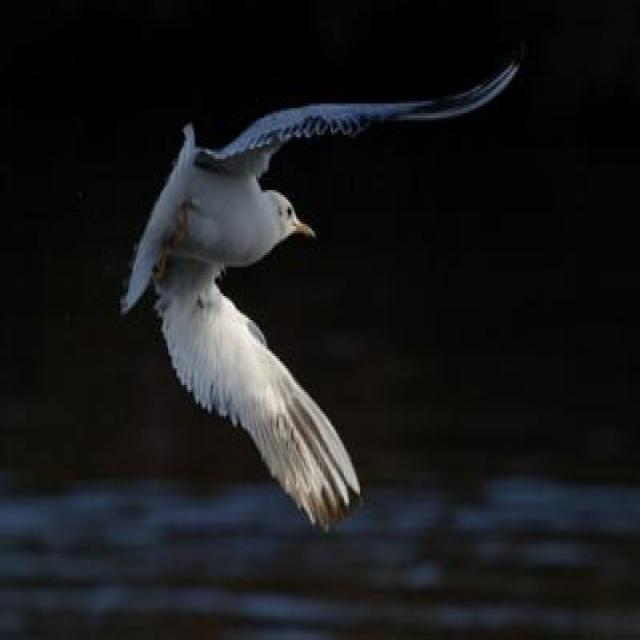birds: (110, 45, 534, 552)
